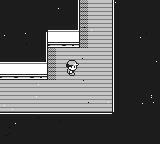main: (66, 61, 79, 75)
no-caminable: (0, 0, 159, 143), (0, 0, 80, 62), (0, 62, 47, 78), (48, 30, 80, 46)
